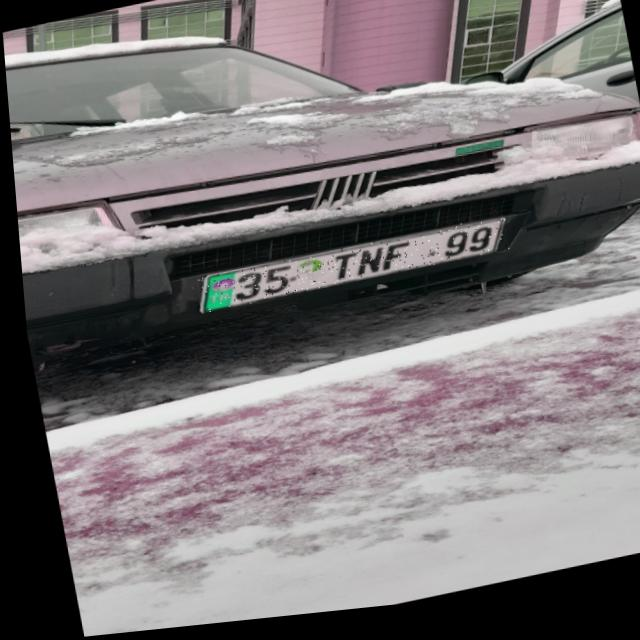license_plate: (187, 224, 506, 317)
